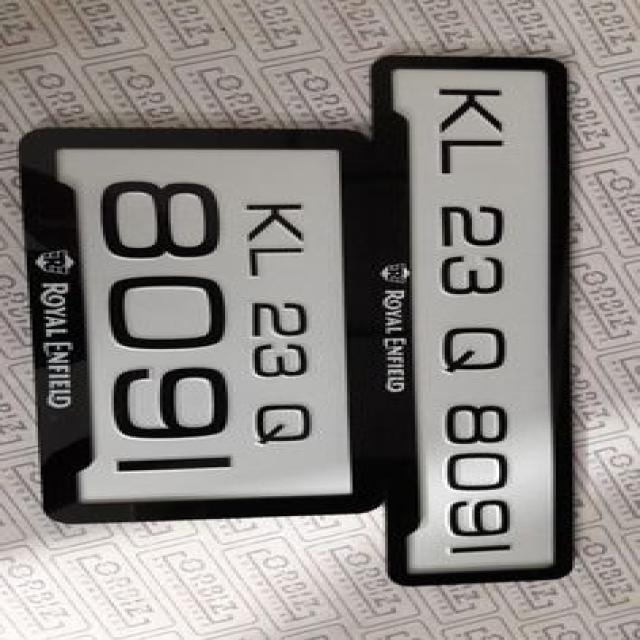plate: (45, 136, 373, 512), (385, 64, 583, 581)
